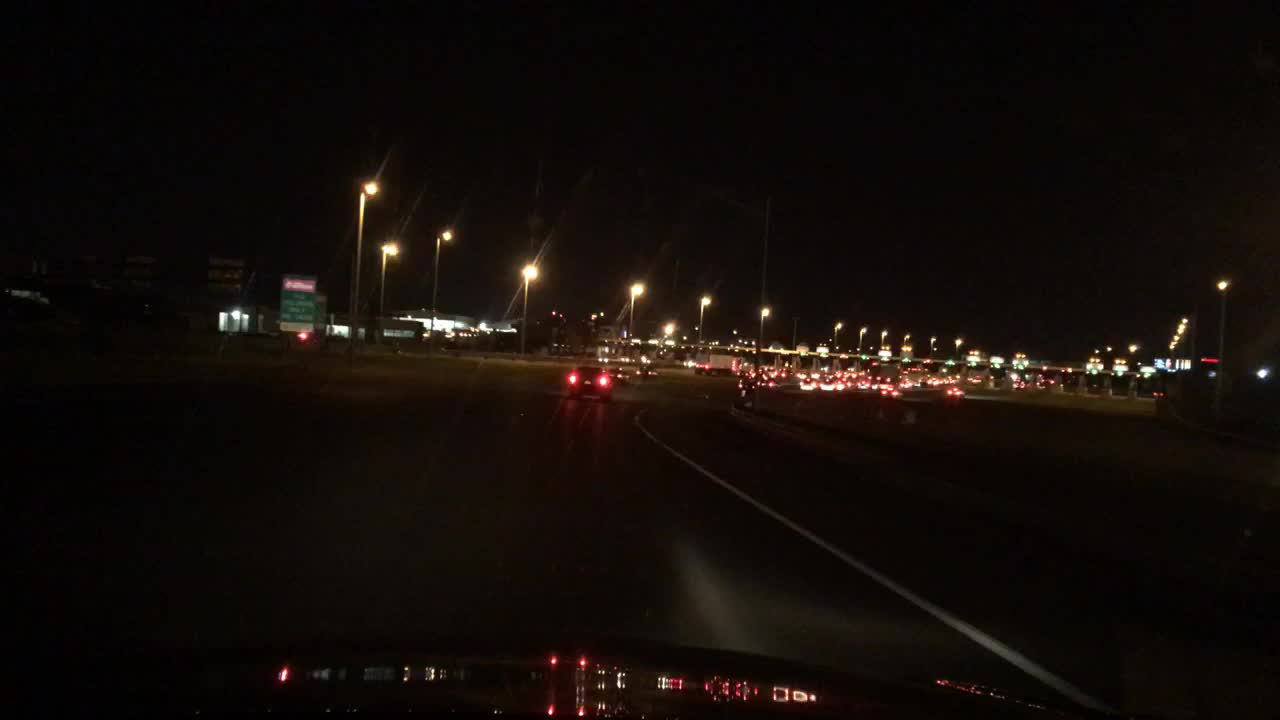car: (566, 365, 615, 399), (738, 375, 778, 397), (607, 368, 627, 387), (636, 363, 660, 378), (879, 387, 904, 399), (944, 386, 966, 399), (799, 377, 817, 390), (819, 377, 835, 389), (836, 380, 853, 391), (779, 365, 796, 375), (749, 366, 764, 377), (875, 372, 891, 382), (856, 380, 871, 389), (766, 365, 778, 376), (1014, 377, 1026, 388), (1037, 378, 1054, 385), (735, 368, 748, 377), (796, 369, 809, 378), (859, 371, 872, 380), (829, 368, 841, 377), (899, 378, 909, 388), (811, 369, 823, 377), (843, 371, 855, 379), (874, 381, 886, 389), (1151, 389, 1163, 397), (925, 377, 936, 385), (945, 377, 958, 383), (971, 375, 980, 383), (938, 377, 946, 384)
traffic light: (1090, 368, 1097, 375), (1016, 363, 1024, 369), (947, 358, 952, 367), (550, 308, 555, 316), (558, 311, 563, 319), (969, 361, 976, 366), (902, 356, 907, 363), (1115, 370, 1121, 375), (994, 363, 999, 369), (860, 353, 864, 360), (1144, 372, 1147, 378)
traffic sign: (283, 291, 314, 331), (283, 276, 313, 290), (1152, 357, 1170, 368), (1110, 363, 1127, 369), (1086, 362, 1103, 368), (989, 356, 1003, 362), (1139, 366, 1154, 371), (965, 355, 978, 360), (877, 350, 890, 355), (816, 346, 828, 351), (664, 339, 674, 344), (630, 338, 639, 342), (647, 339, 657, 342)
truck: (694, 352, 734, 375)
